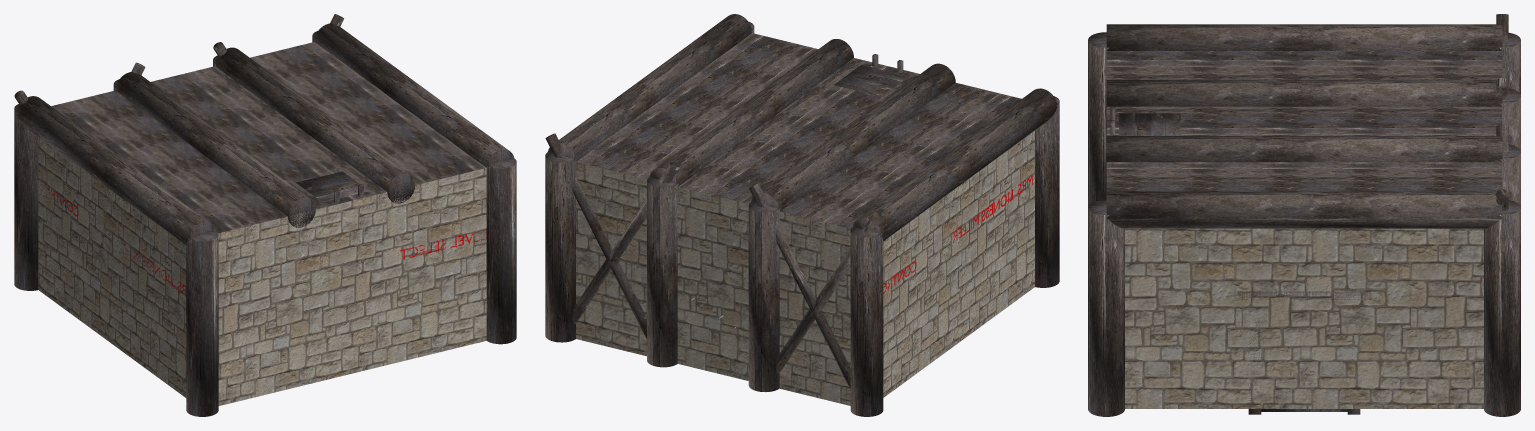
File: mlin (1).glb
3 renders of one model, left to right at view 1: azimuth 30°, elevation 25°; view 2: azimuth 150°, elevation 25°; view 3: azimuth 270°, elevation 25°, orthographic. The views are drawn at different scales.
Parts seen in each view (by area): view 1: Prostor, Pilastar_grede, Pilastar_kutovi, Otvor, Pilastar_diagonale; view 2: Prostor, Pilastar_grede, Pilastar_kutovi, Pilastar_zid, Pilastar_diagonale, Otvor; view 3: Prostor, Pilastar_grede, Pilastar_kutovi, Pilastar_zid, Otvor, Vrata, Pilastar_diagonale.
Boxes of the visible parts, box(x1,y1,x2,y2) form: Prostor: box(38, 42, 486, 405); Pilastar_grede: box(16, 23, 514, 244); Pilastar_kutovi: box(14, 31, 516, 416); Otvor: box(296, 171, 368, 202); Pilastar_diagonale: box(14, 14, 343, 104); Prostor: box(576, 33, 1034, 405); Pilastar_grede: box(548, 14, 1057, 240); Pilastar_kutovi: box(545, 21, 1059, 416); Pilastar_zid: box(647, 177, 780, 391); Pilastar_diagonale: box(545, 133, 882, 388); Otvor: box(834, 65, 908, 96); Prostor: box(1106, 51, 1502, 408); Pilastar_grede: box(1106, 24, 1502, 228); Pilastar_kutovi: box(1088, 32, 1520, 416); Pilastar_zid: box(1500, 88, 1520, 206); Otvor: box(1119, 113, 1180, 135); Vrata: box(1237, 291, 1371, 414); Pilastar_diagonale: box(1496, 14, 1508, 210).
Bounding box in the file's own units: 70.43 × 40.94 × 70.
19 materials, 17 textured.
